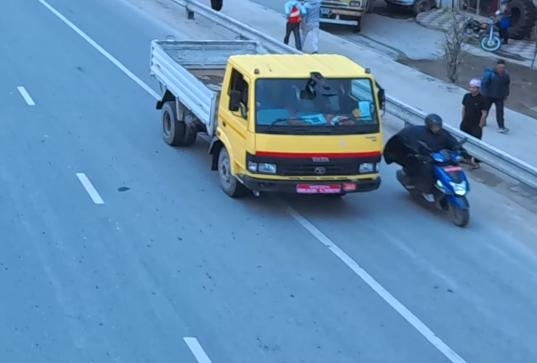bike: (454, 9, 508, 60)
mini_truck: (144, 30, 396, 219)
scooter: (388, 112, 490, 237)
